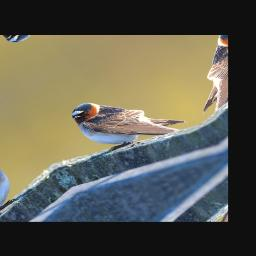Swallow: (64, 71, 192, 168)
